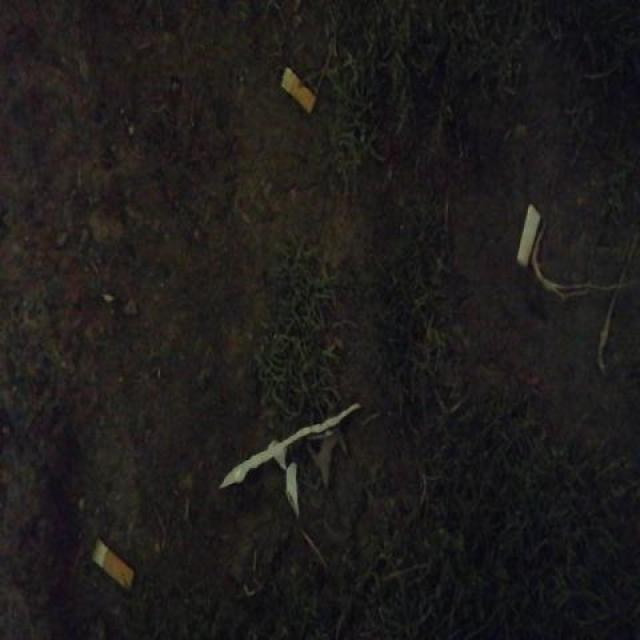non-organic waste: (87, 533, 137, 595), (277, 63, 319, 118), (513, 200, 544, 273)
